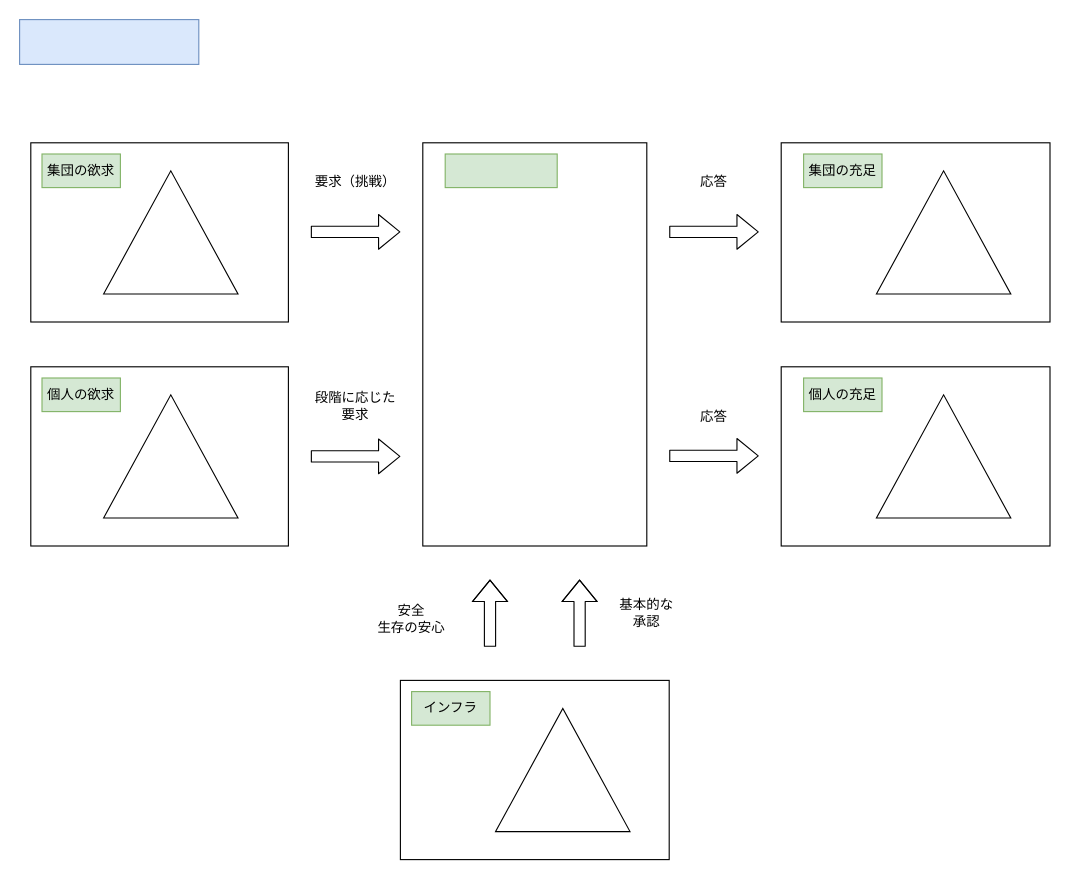
Some shapes in this 1070 by 879 pixel diagram are drawn without their labels. The shapes that lost their labels are listed below. From the top down, each one's centre as x and y in pixels, then its label:
At point (108, 41): "地図 ～関係～".
At point (500, 170): "スキルの発揮".
